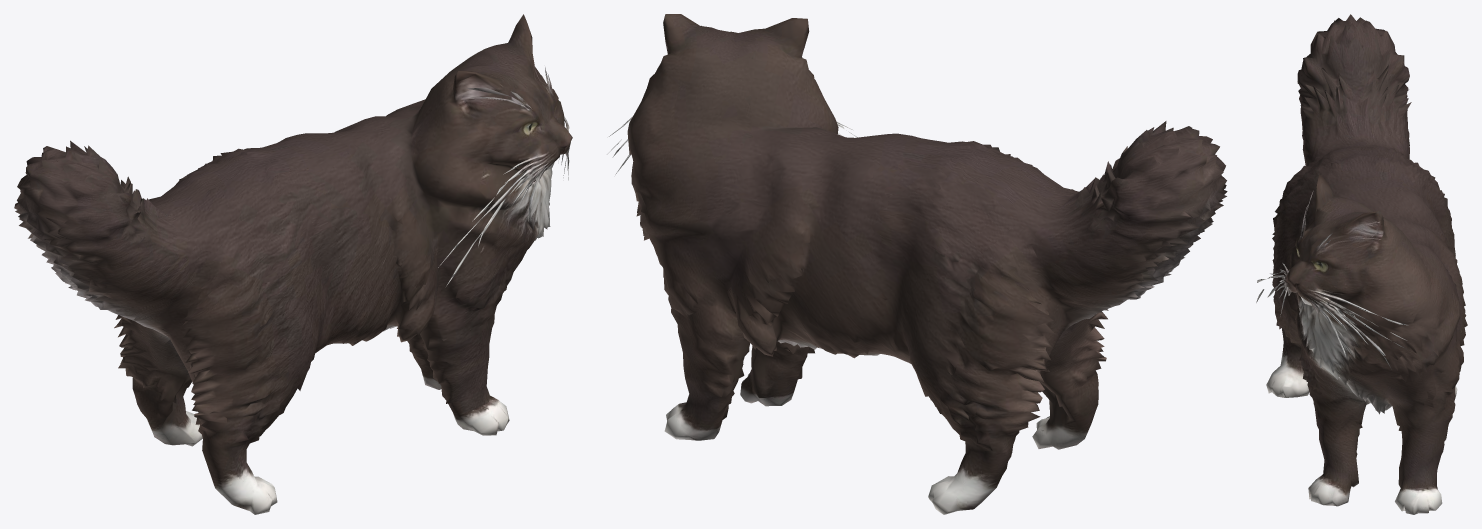
File: WHISK100.glb
3 views of the same model, side by side, from view 1: azimuth 30°, elevation 25°; view 2: azimuth 150°, elevation 25°; view 3: azimuth 270°, elevation 25° (orthographic). The views are drawn at different scales.
Parts seen in each view (by area): view 1: tripo_node_71e449d1-74b6-4351-8f0a-4b4731874248; view 2: tripo_node_71e449d1-74b6-4351-8f0a-4b4731874248; view 3: tripo_node_71e449d1-74b6-4351-8f0a-4b4731874248.
Part boxes in pixels (left/top/right/bottom): tripo_node_71e449d1-74b6-4351-8f0a-4b4731874248: left=14, top=14, right=572, bottom=514; tripo_node_71e449d1-74b6-4351-8f0a-4b4731874248: left=607, top=14, right=1227, bottom=514; tripo_node_71e449d1-74b6-4351-8f0a-4b4731874248: left=1256, top=14, right=1467, bottom=514.
Bounding box in the file's own units: 1.56 × 1 × 0.6022.
1 material, 1 textured.
